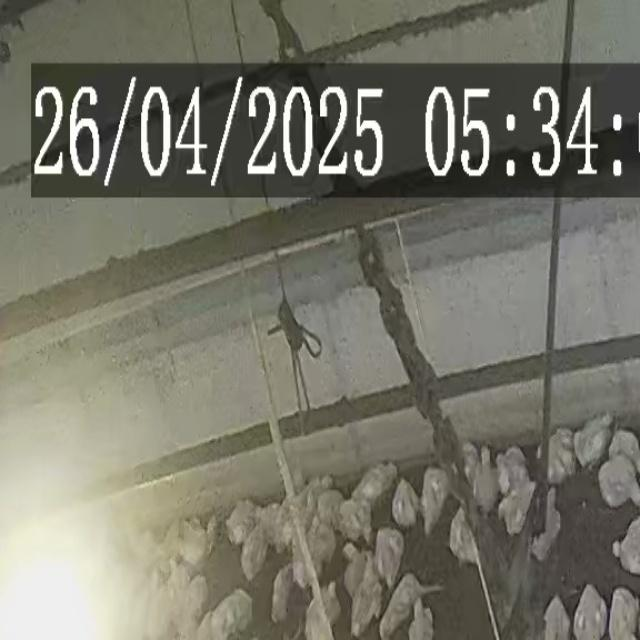chicken: (568, 584, 604, 640), (568, 415, 610, 463), (354, 567, 384, 634), (597, 458, 640, 504), (300, 584, 338, 634), (422, 468, 448, 530), (348, 462, 398, 493), (372, 532, 402, 582), (389, 477, 417, 528), (473, 446, 495, 506), (243, 526, 270, 573), (227, 496, 254, 539), (342, 545, 368, 587), (252, 500, 280, 530)
